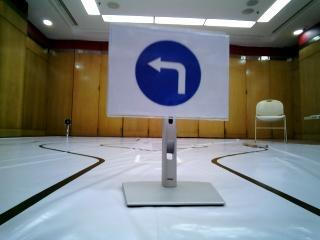left: (114, 19, 221, 117)
